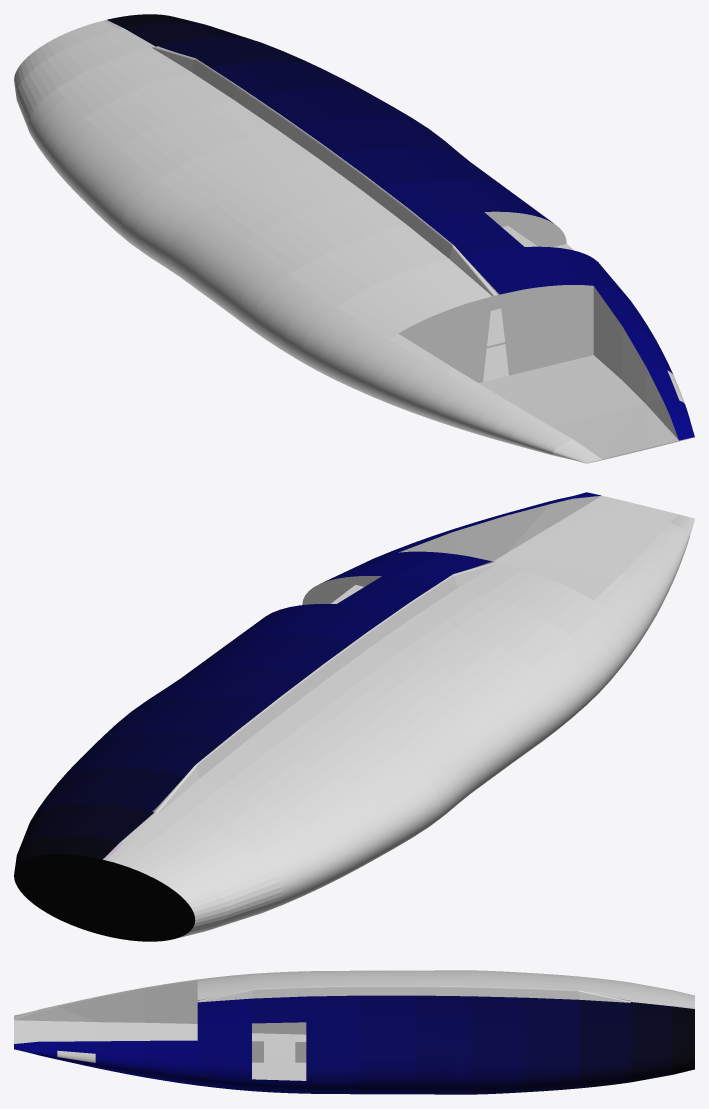
The model's file is starship.fbx.
The picture shows the model from 3 angles, top to bottom: view 1: azimuth 30°, elevation 25°; view 2: azimuth 150°, elevation 25°; view 3: azimuth 270°, elevation 25°; orthographic projection. The views are drawn at different scales.
Visible parts, largest first — view 1: Main; view 2: Main; view 3: Main.
Part boxes in pixels (x1,y1,x2,y2): Main: [14, 14, 694, 463]; Main: [14, 492, 694, 941]; Main: [14, 970, 694, 1094].
Bounding box in the file's own units: 33.19 × 96.54 × 13.28.
